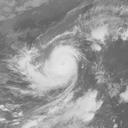cyclone: (9, 18, 98, 121)
